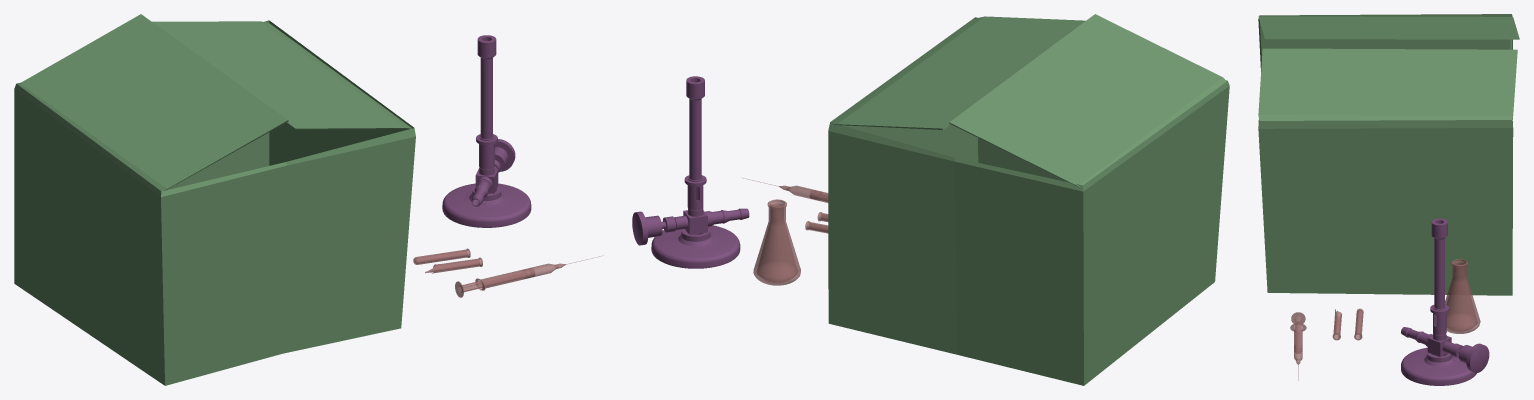
File: BoxExport.fbx
The picture shows the model from 3 angles, left to right: view 1: azimuth 30°, elevation 25°; view 2: azimuth 150°, elevation 25°; view 3: azimuth 270°, elevation 25°; orthographic projection. The views are drawn at different scales.
Visible parts, largest first — view 1: Bot, R_Open, L_Open, Bunsen_burner, Barrel, Push_Plunger, SmallVial; view 2: Bot, R_Open, L_Open, Bunsen_burner, TallVial; view 3: Bot, L_Open, R_Open, Bunsen_burner, TallVial, Barrel, Push_Plunger, SmallVial.
Boxes of the visible parts, x1,y1,x2,y2 form: Bot: [14, 20, 415, 385]; R_Open: [19, 14, 288, 191]; L_Open: [152, 21, 412, 129]; Bunsen_burner: [442, 35, 531, 227]; Barrel: [475, 255, 603, 290]; Push_Plunger: [455, 268, 534, 297]; SmallVial: [413, 248, 470, 264]; Bot: [828, 17, 1229, 385]; R_Open: [949, 14, 1226, 187]; L_Open: [833, 16, 1085, 129]; Bunsen_burner: [632, 76, 749, 268]; TallVial: [753, 199, 800, 285]; Bot: [1258, 14, 1513, 295]; L_Open: [1258, 48, 1517, 120]; R_Open: [1258, 16, 1519, 39]; Bunsen_burner: [1401, 218, 1489, 385]; TallVial: [1445, 259, 1480, 333]; Barrel: [1290, 323, 1306, 380]; Push_Plunger: [1291, 312, 1305, 353]; SmallVial: [1354, 308, 1363, 340].
Size of the model in its own units: 97.75 by 46.57 by 53.38.
